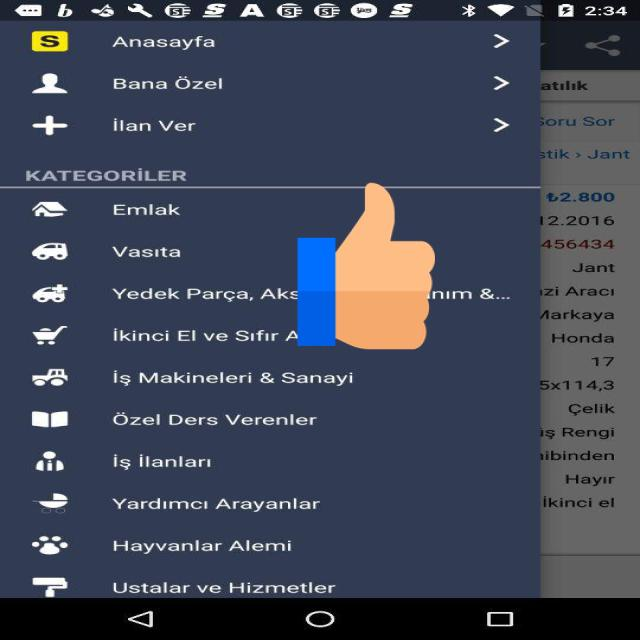privacy zuckering: (297, 179, 435, 353)
